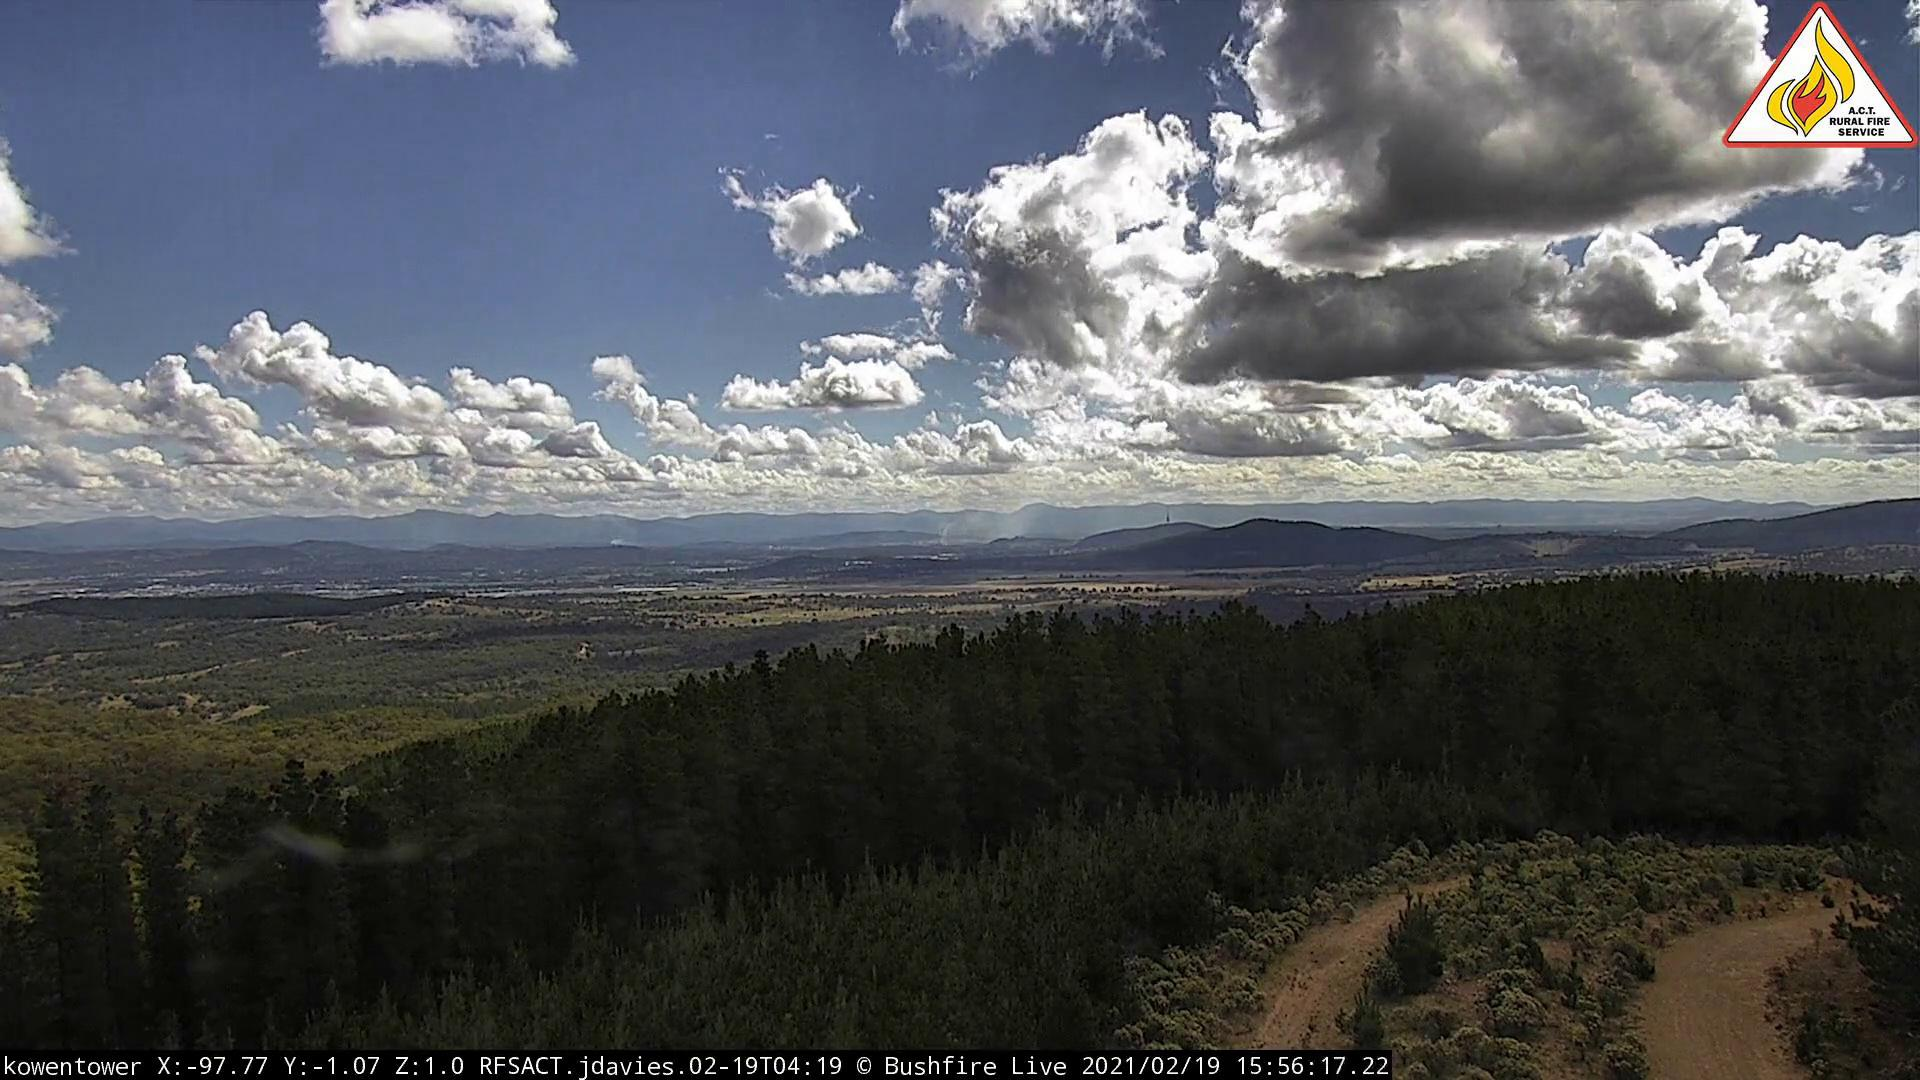Smoke: (935, 502, 1046, 550), (612, 526, 636, 555)
